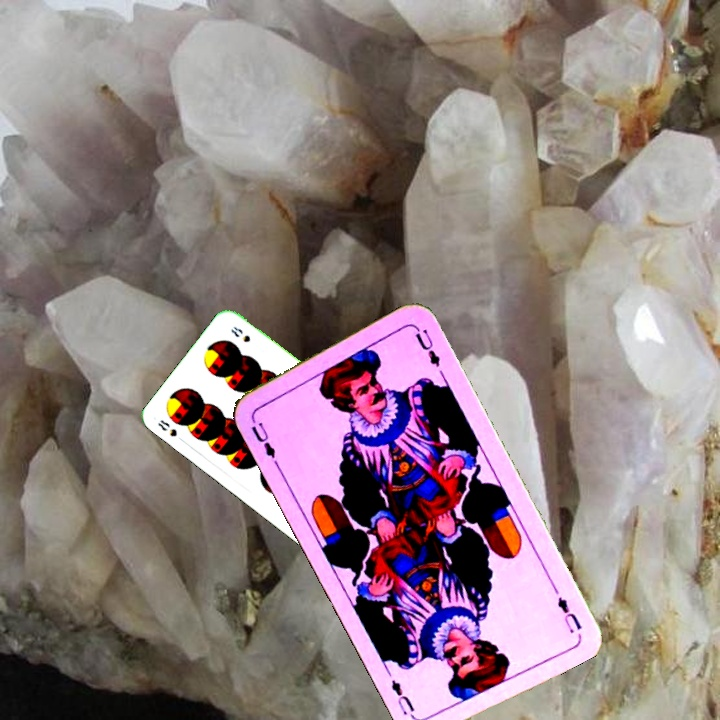EU: (246, 413, 278, 461), (553, 592, 585, 636)
S8: (154, 416, 187, 446)
